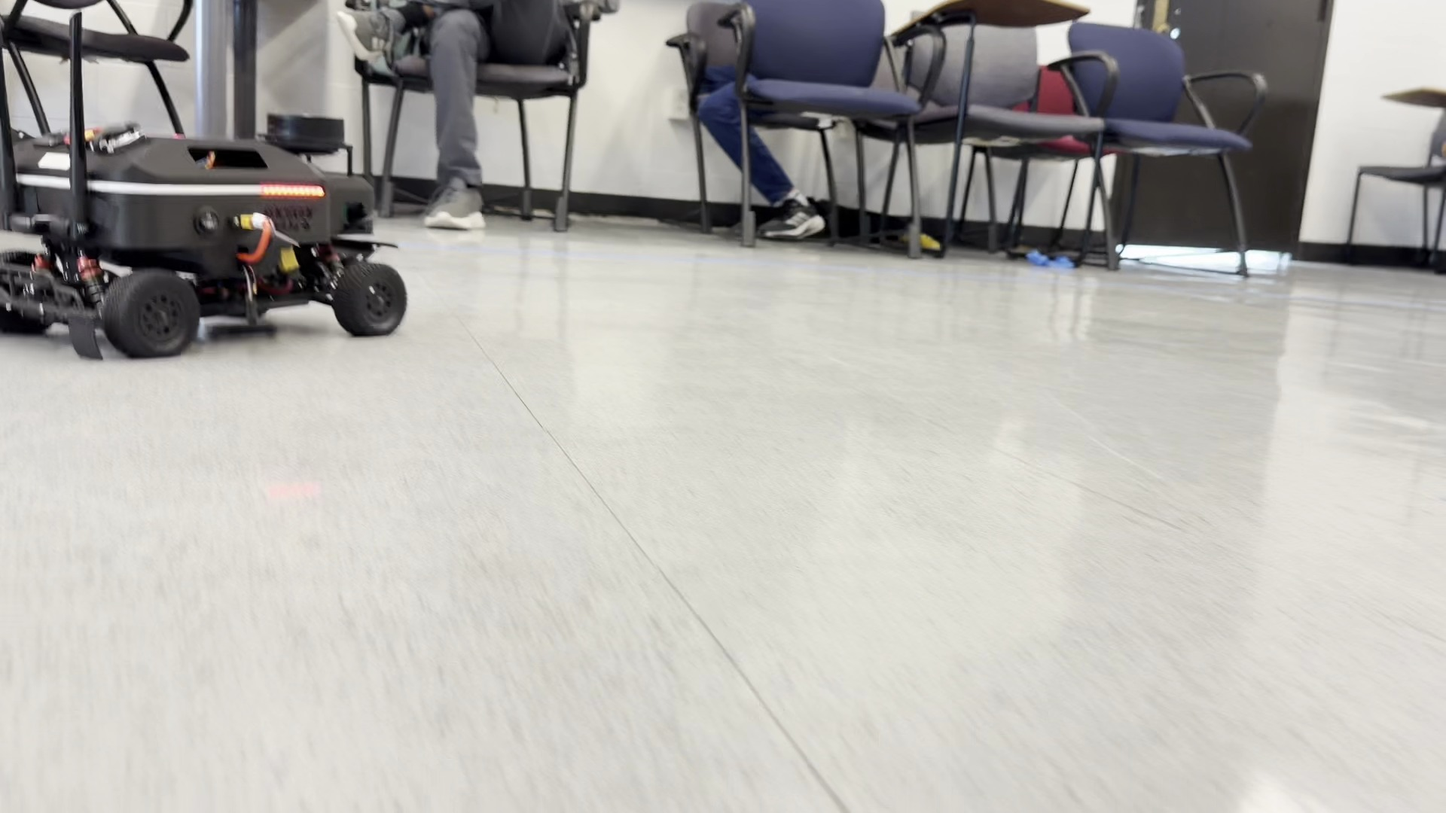racecar: (2, 128, 403, 362)
